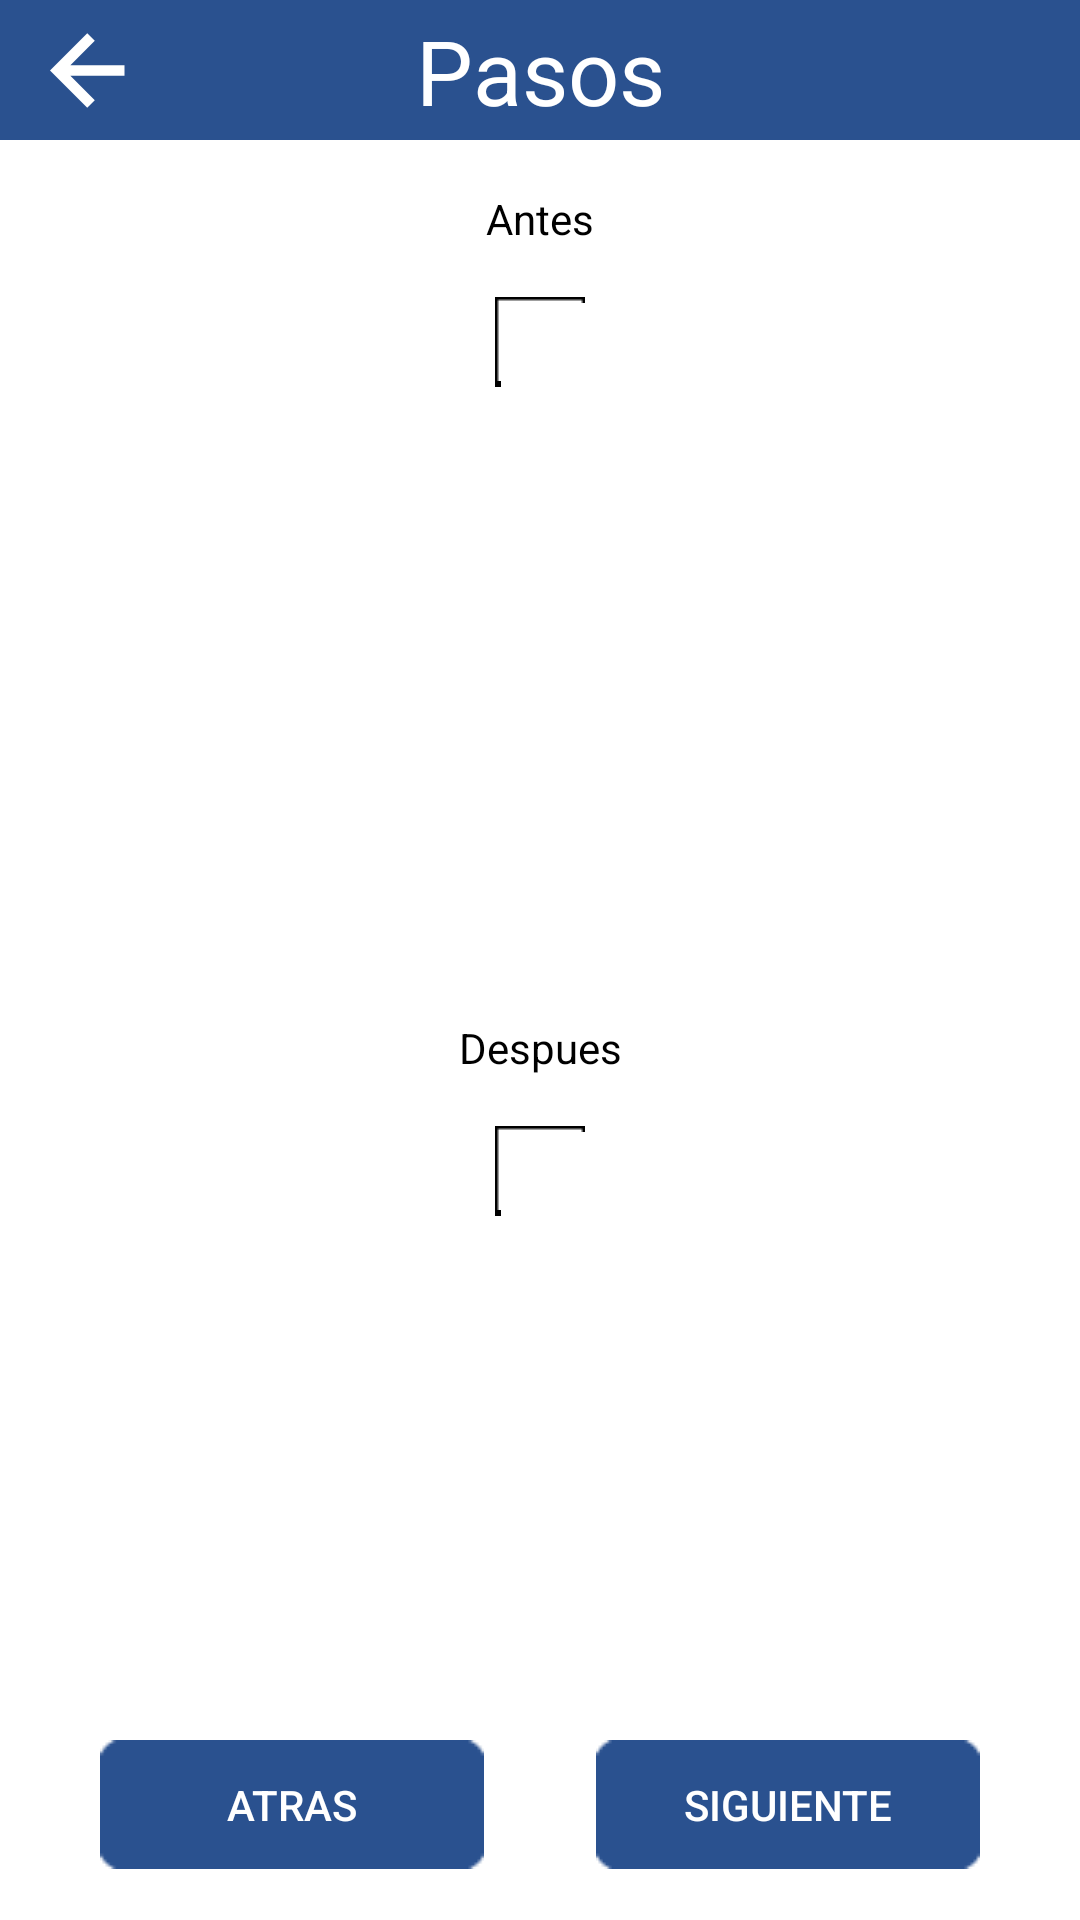

Named icons in this screenshot (1080x1920) and their centers, point (x, y):
arrow back: point (87, 70)
